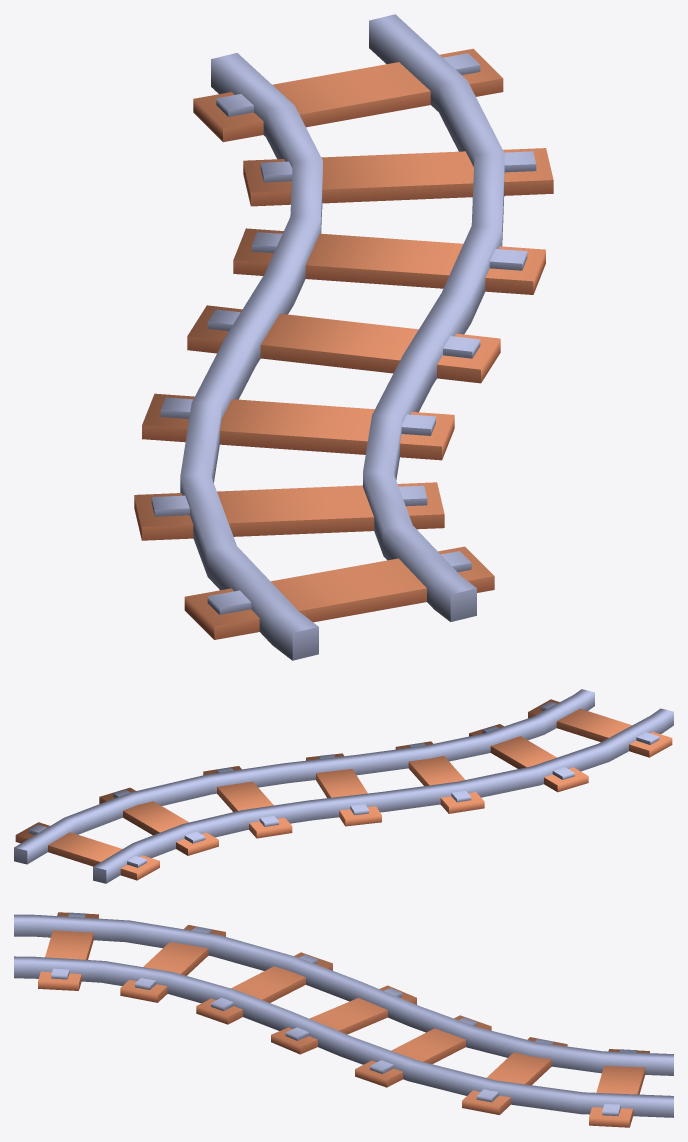
Rendered from railroad-curve.obj.
The picture shows the model from 3 angles, top to bottom: view 1: azimuth 30°, elevation 25°; view 2: azimuth 150°, elevation 25°; view 3: azimuth 270°, elevation 25°; orthographic projection. The views are drawn at different scales.
Visible parts, largest first — view 1: railroad-curve; view 2: railroad-curve; view 3: railroad-curve.
Part boxes in pixels (x1=…): railroad-curve: x1=134, y1=14, x2=553, y2=660; railroad-curve: x1=14, y1=689, x2=673, y2=883; railroad-curve: x1=14, y1=912, x2=673, y2=1127.
Size of the model in its own units: 2.98 by 0.1 by 4.
Materials: 1 (1 with a texture image).
